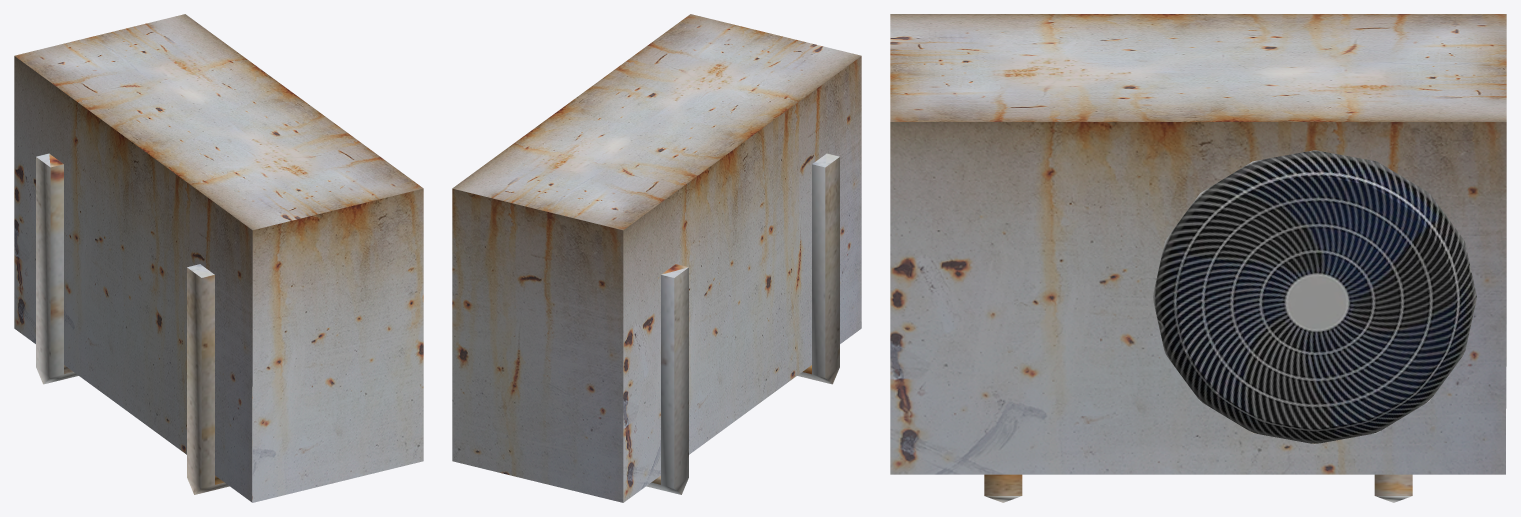
File: ac_unit.fbx
The picture shows the model from 3 angles, left to right: view 1: azimuth 30°, elevation 25°; view 2: azimuth 150°, elevation 25°; view 3: azimuth 270°, elevation 25°; orthographic projection. The views are drawn at different scales.
Visible parts, largest first — view 1: Circle; view 2: Circle; view 3: Circle.
Part boxes in pixels (x1,y1,x2,y2): Circle: (14,14,423,502); Circle: (452,14,861,502); Circle: (890,14,1506,502).
Size of the model in its own units: 483 by 237 by 327.
Materials: 1 (1 with a texture image).
